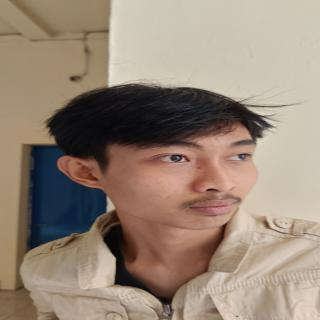Takut: (97, 106, 260, 239)
